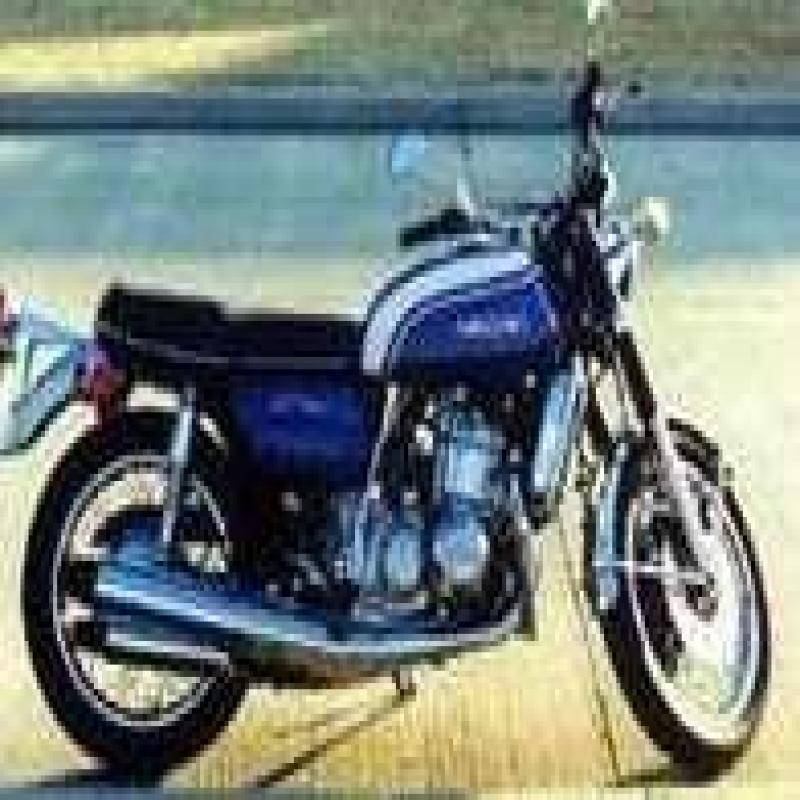bike: (3, 32, 800, 762)
